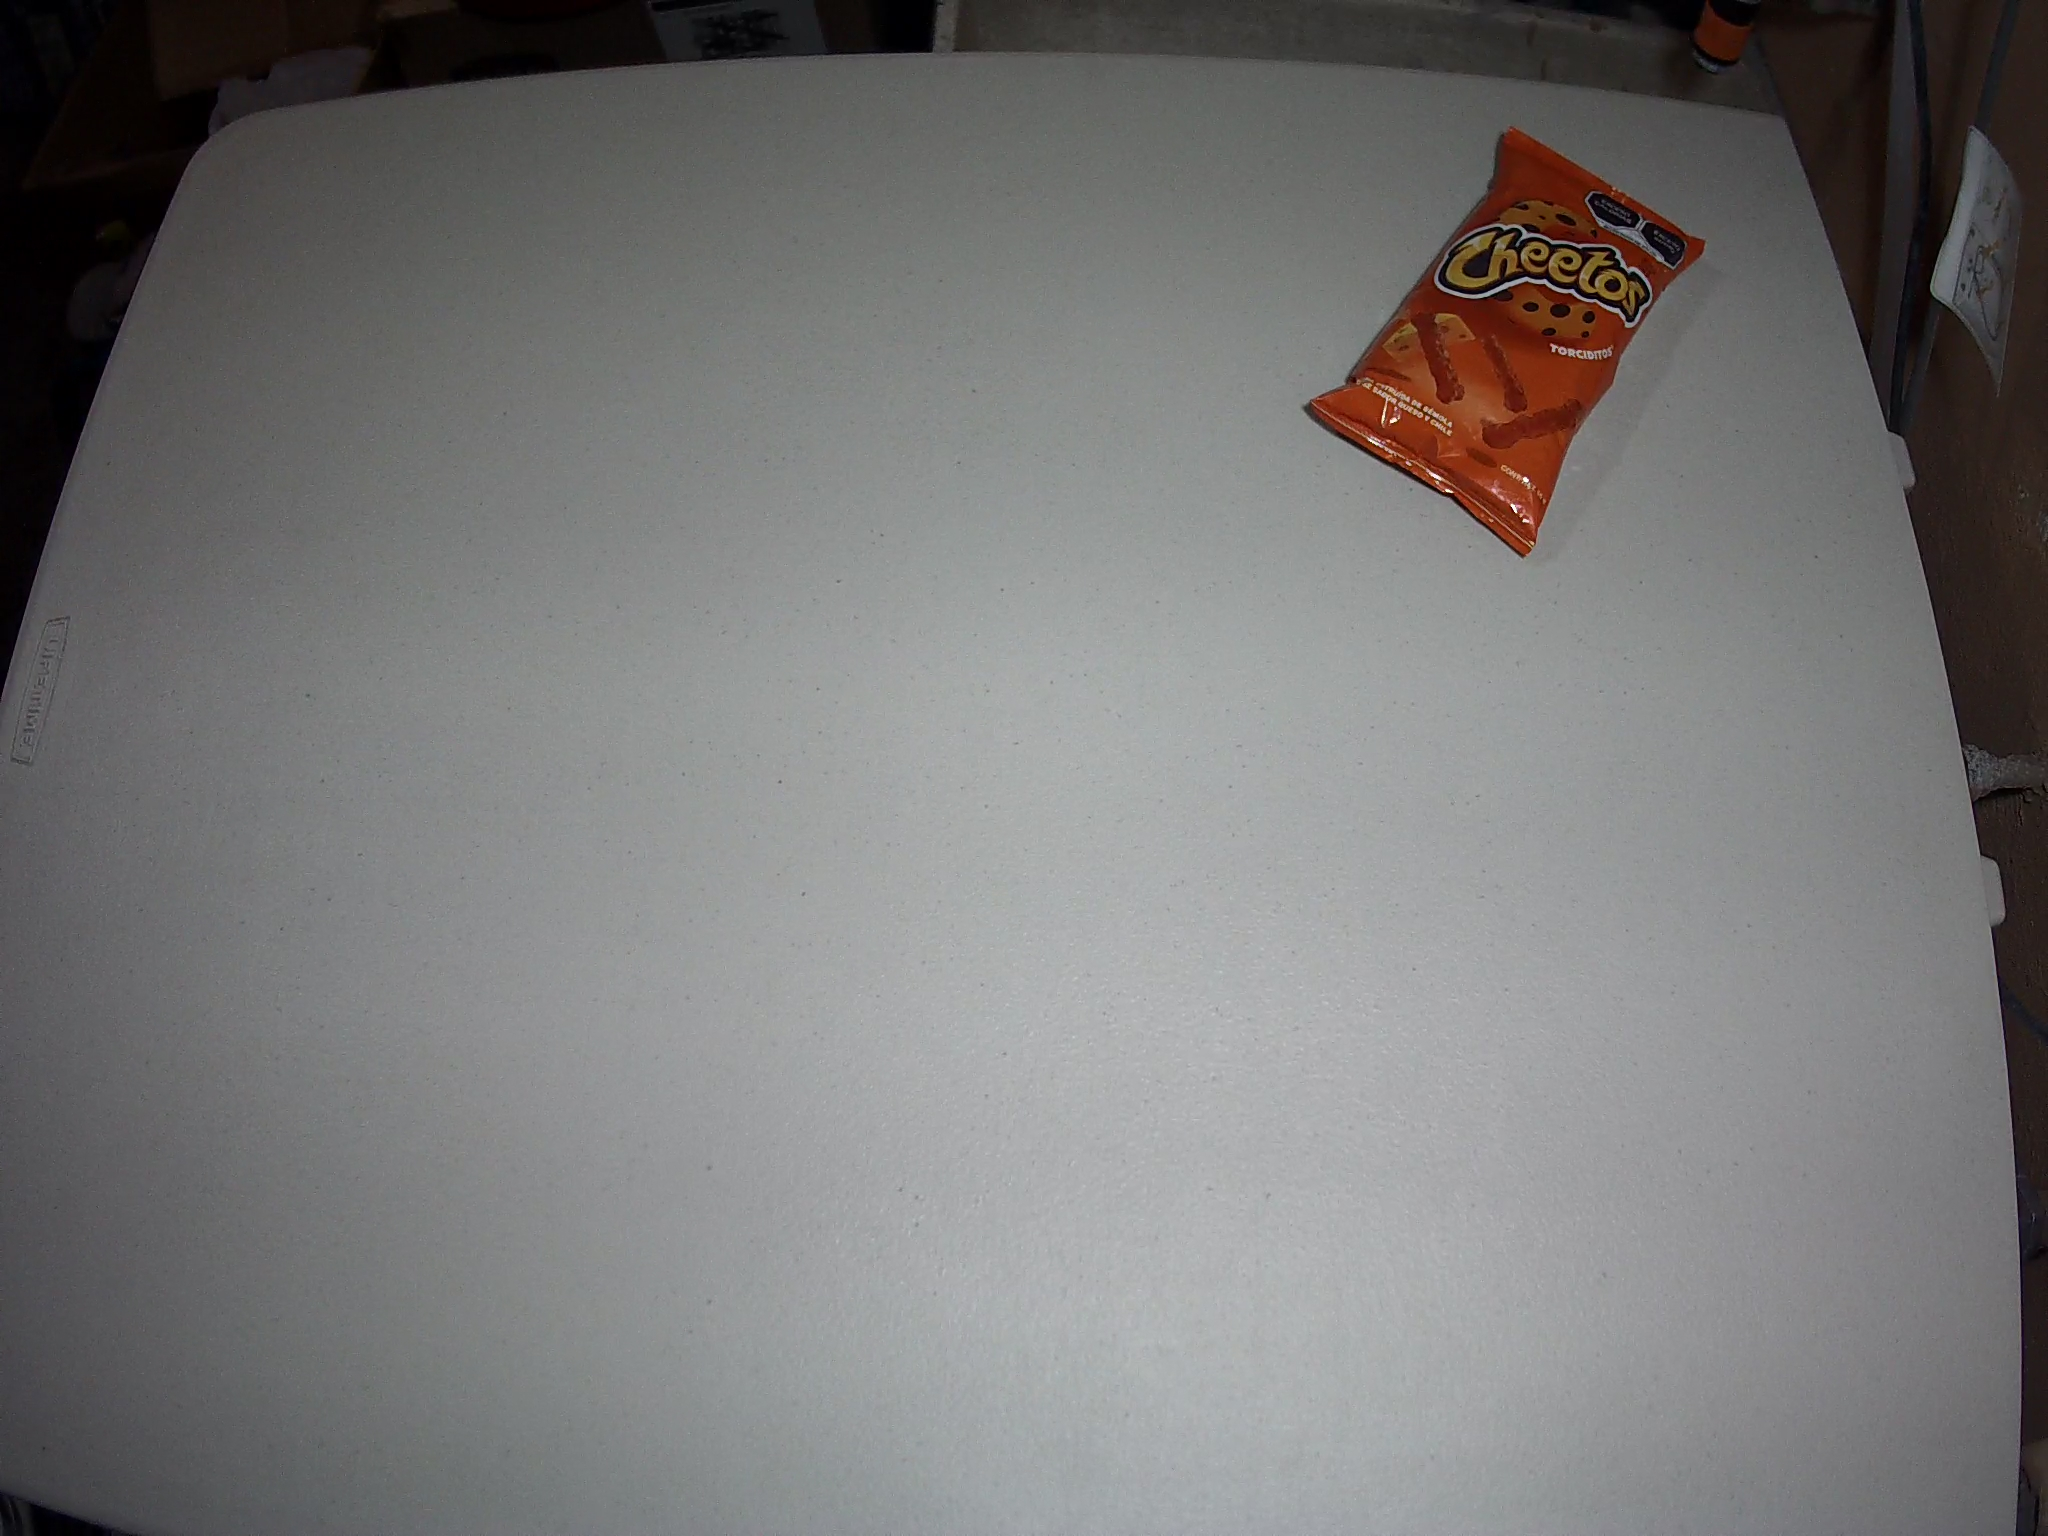CheetosTorciditos_55_F: (1308, 123, 1709, 557)
